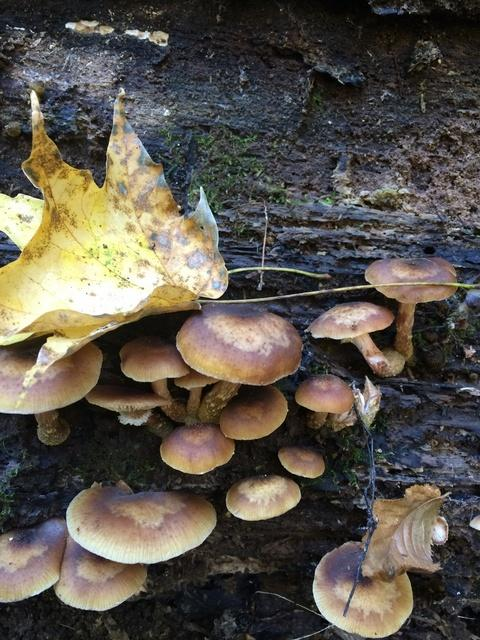Edible Mushroom: (64, 479, 217, 565), (175, 301, 302, 386), (311, 539, 414, 638), (363, 255, 458, 361), (305, 300, 395, 376), (225, 473, 301, 521)
